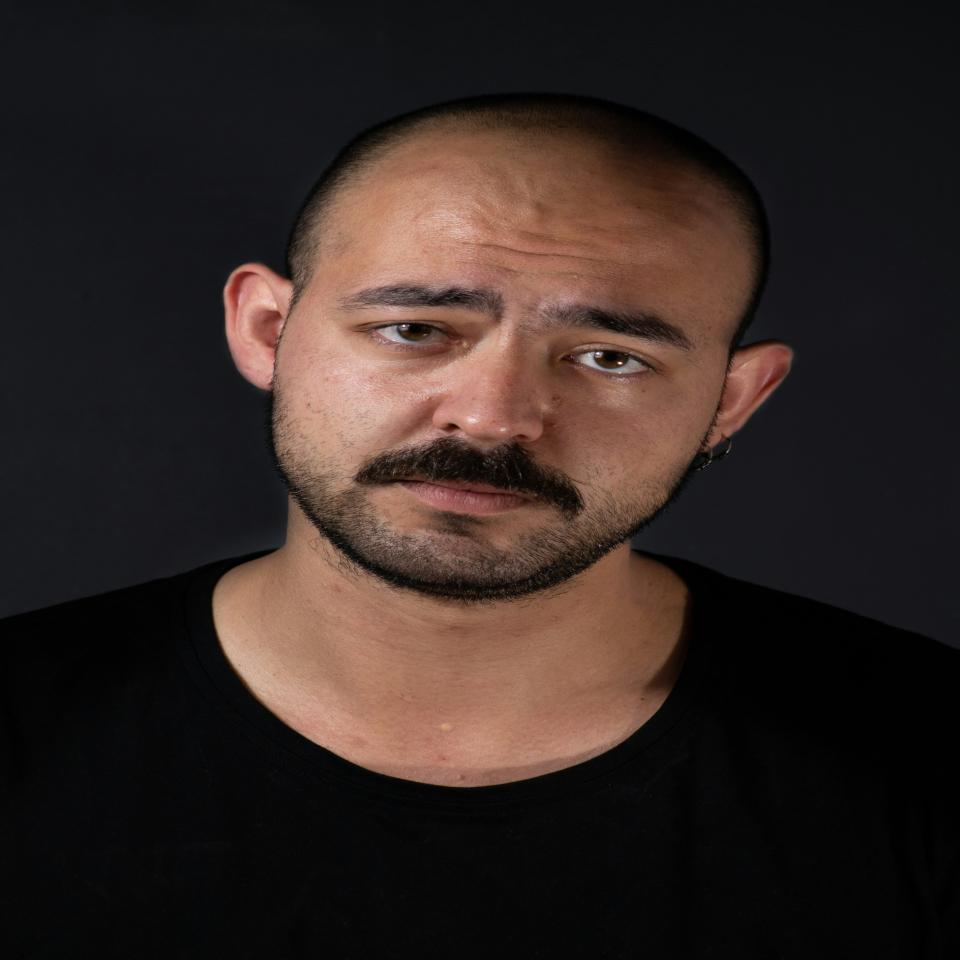Sadness: (274, 128, 718, 598)
